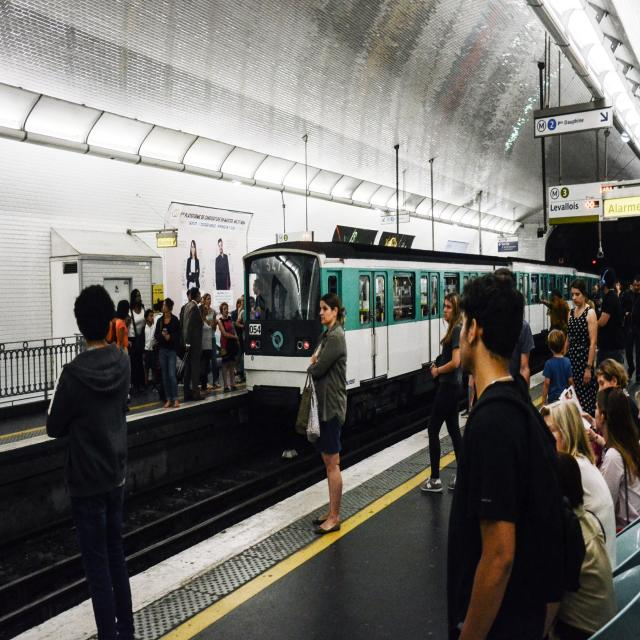body: (40, 280, 139, 640), (538, 397, 619, 574), (544, 453, 618, 639), (294, 292, 348, 536), (464, 268, 536, 399), (418, 292, 464, 492), (589, 385, 640, 531), (492, 269, 536, 398), (562, 278, 600, 420), (580, 358, 630, 453), (174, 286, 206, 402), (595, 267, 626, 369), (154, 297, 181, 408), (540, 328, 577, 408), (618, 276, 640, 383), (125, 288, 147, 392), (216, 301, 240, 393), (202, 292, 222, 391), (140, 308, 158, 394), (198, 303, 213, 394), (374, 288, 416, 320), (538, 289, 564, 332), (215, 237, 231, 291), (116, 299, 130, 357), (250, 276, 268, 321), (186, 239, 200, 290), (589, 284, 603, 322), (179, 289, 192, 323), (230, 297, 241, 336), (237, 309, 246, 353), (421, 291, 437, 315), (107, 311, 118, 343), (274, 284, 284, 315), (153, 299, 164, 325), (237, 294, 245, 318), (519, 282, 527, 301), (615, 282, 624, 298), (198, 296, 204, 307), (628, 283, 634, 291), (141, 303, 148, 309)
